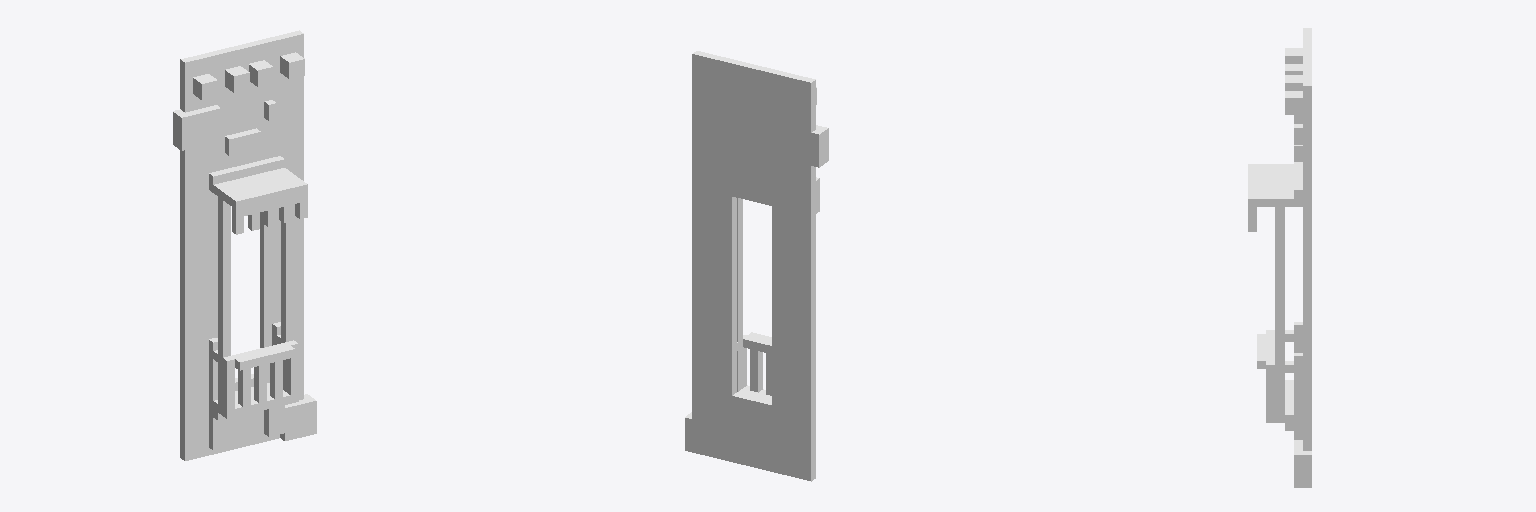
File: TinyBuilding01-0.obj
3 views of the same model, side by side, from view 1: azimuth 30°, elevation 25°; view 2: azimuth 150°, elevation 25°; view 3: azimuth 270°, elevation 25° (orthographic).
Parts seen in each view (by area): view 1: object 1; view 2: object 1; view 3: object 1.
Part boxes in pixels (x1,y1,x2,y2): object 1: (173, 30, 316, 460); object 1: (685, 51, 828, 481); object 1: (1248, 28, 1311, 487).
Size of the model in its own units: 1.7 by 4.8 by 0.7.